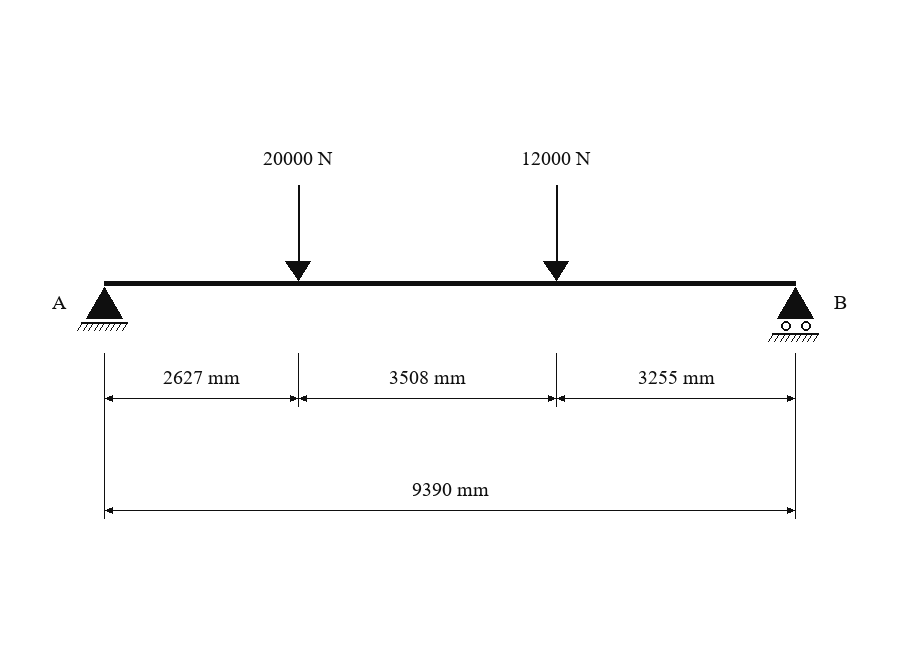pin_support: (77, 287, 128, 331)
point_load: (285, 185, 311, 281), (543, 185, 569, 281)
roller_support: (768, 287, 819, 342)
